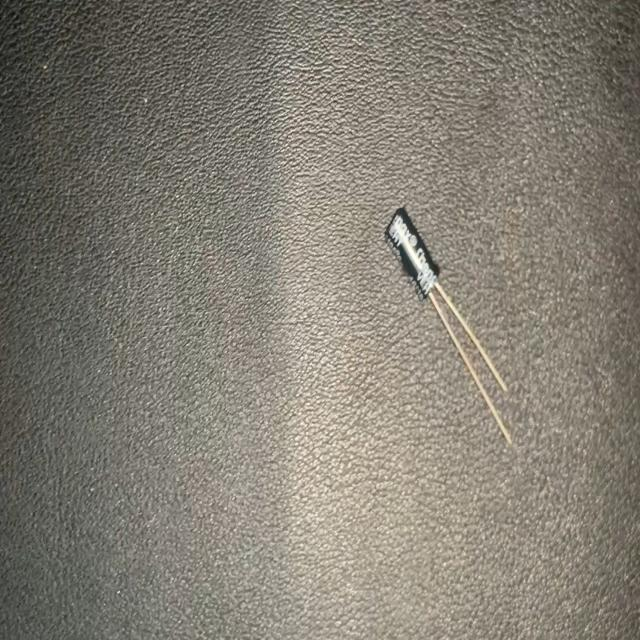capacitor: (384, 200, 516, 455)
